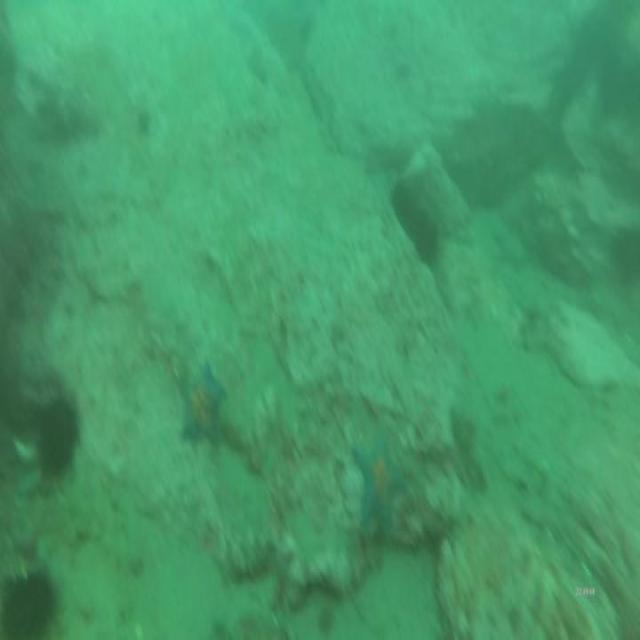echinus: (0, 561, 60, 640), (34, 389, 80, 482), (412, 212, 441, 267), (389, 175, 415, 228)
starfish: (349, 425, 408, 542), (176, 357, 228, 452)
